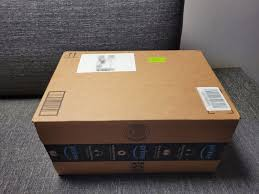undamaged: (30, 49, 240, 178)
